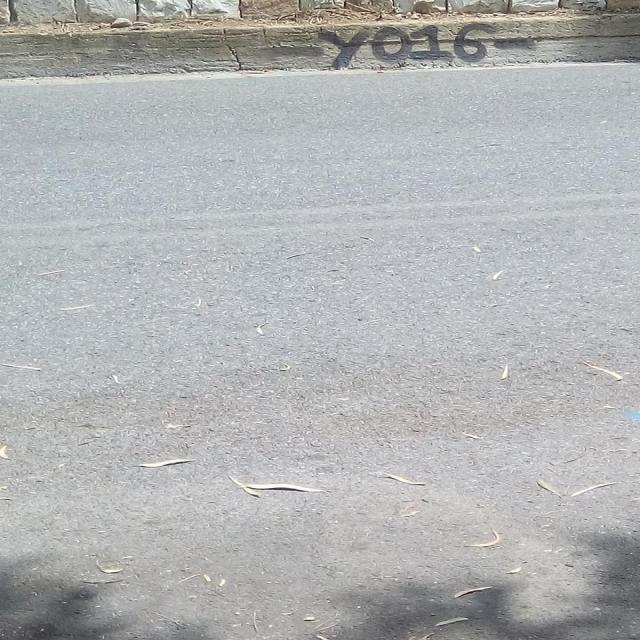nonspitting: (264, 24, 536, 68)
